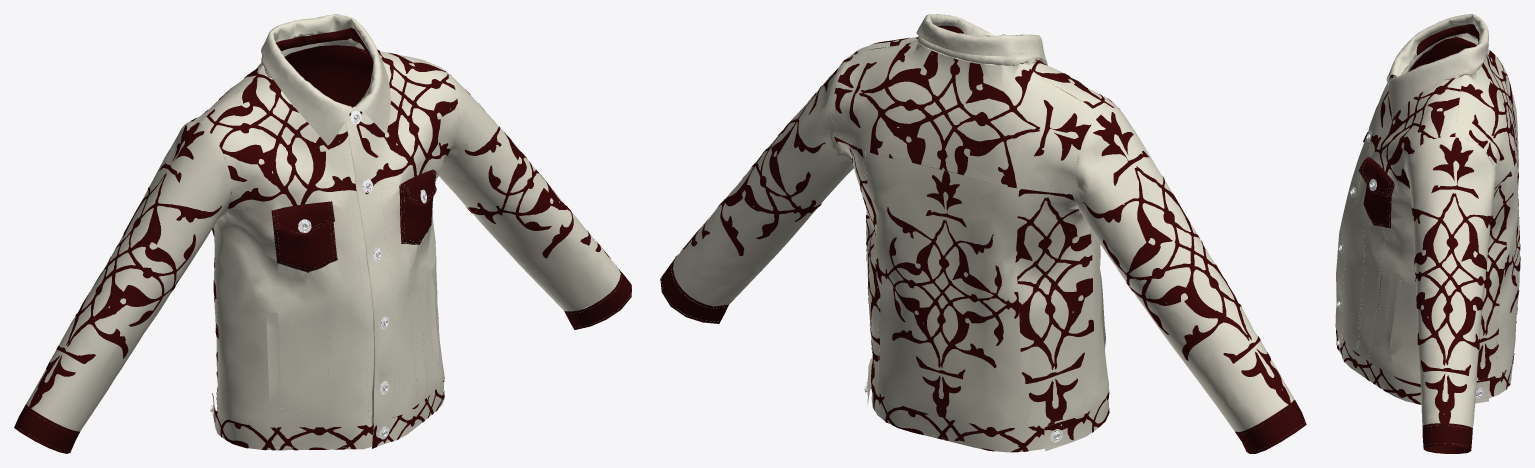
File: DRLJB.glb
The picture shows the model from 3 angles, left to right: view 1: azimuth 30°, elevation 25°; view 2: azimuth 150°, elevation 25°; view 3: azimuth 270°, elevation 25°; orthographic projection. The views are drawn at different scales.
Visible parts, largest first — view 1: Cloth, _mesh, BindedTrim_718213; view 2: Cloth; view 3: Cloth, _mesh, BindedTrim_718213.
Boxes of the visible parts, <box> form: Cloth: <box>14,14,631,453</box>; _mesh: <box>210,110,426,439</box>; BindedTrim_718213: <box>15,38,631,451</box>; Cloth: <box>660,14,1306,453</box>; Cloth: <box>1335,14,1520,453</box>; _mesh: <box>1337,82,1484,398</box>; BindedTrim_718213: <box>1339,33,1516,446</box>.
Size of the model in its own units: 0.785 by 0.4677 by 0.2333.
75 materials, 74 textured.
